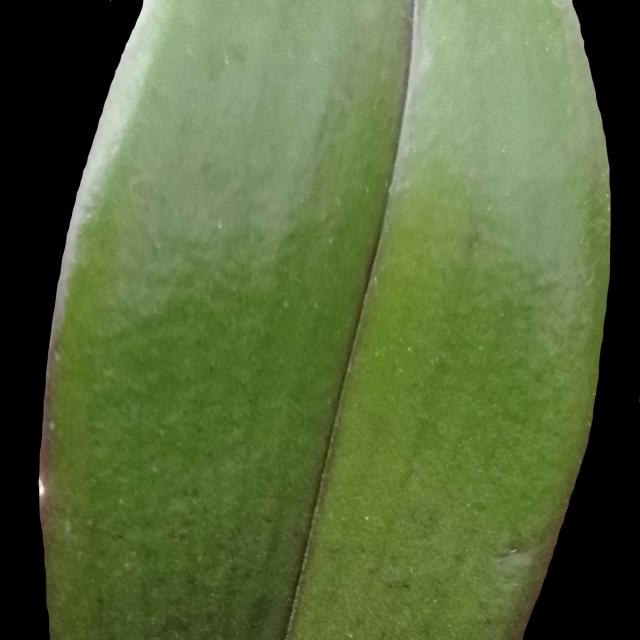mite: (336, 500, 536, 624), (353, 509, 414, 595), (380, 573, 417, 598), (164, 521, 194, 546), (356, 507, 376, 530), (463, 497, 488, 514), (385, 578, 412, 593), (499, 543, 521, 559), (169, 526, 190, 542), (421, 593, 440, 607), (533, 369, 546, 385), (93, 593, 105, 606), (361, 512, 371, 524), (404, 344, 413, 354)
spots: (38, 1, 612, 637)
